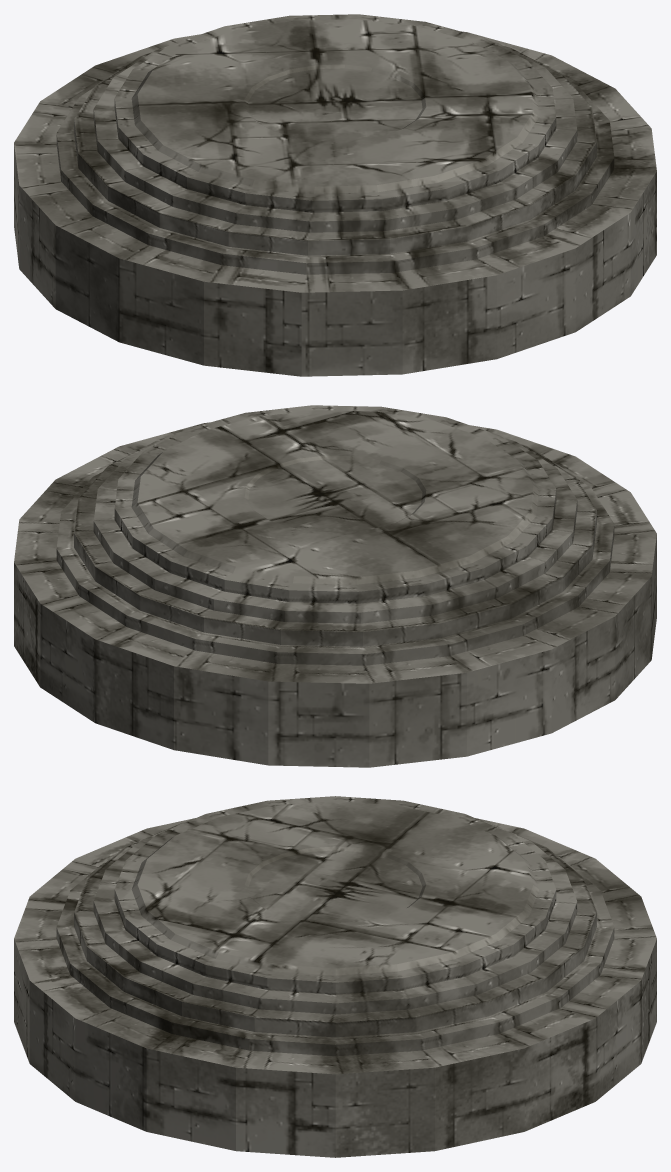
The model's file is Round_Mid_Fbx.fbx.
3 views of the same model, one above another, from view 1: azimuth 30°, elevation 25°; view 2: azimuth 150°, elevation 25°; view 3: azimuth 270°, elevation 25° (orthographic).
Visible parts, largest first — view 1: Mid_Circle; view 2: Mid_Circle; view 3: Mid_Circle.
Part boxes in pixels (x1,y1,x2,y2): Mid_Circle: (14, 14, 656, 376); Mid_Circle: (14, 405, 656, 767); Mid_Circle: (14, 796, 656, 1157).
Bounding box in the file's own units: 15.23 × 3.59 × 15.23.
